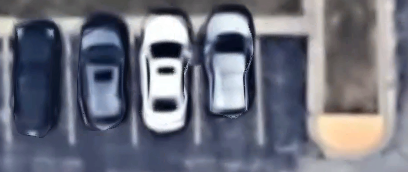Occupied: (68, 30, 134, 144), (133, 31, 198, 144), (5, 30, 69, 144), (197, 31, 259, 144)
Vacant: (258, 31, 312, 145)
